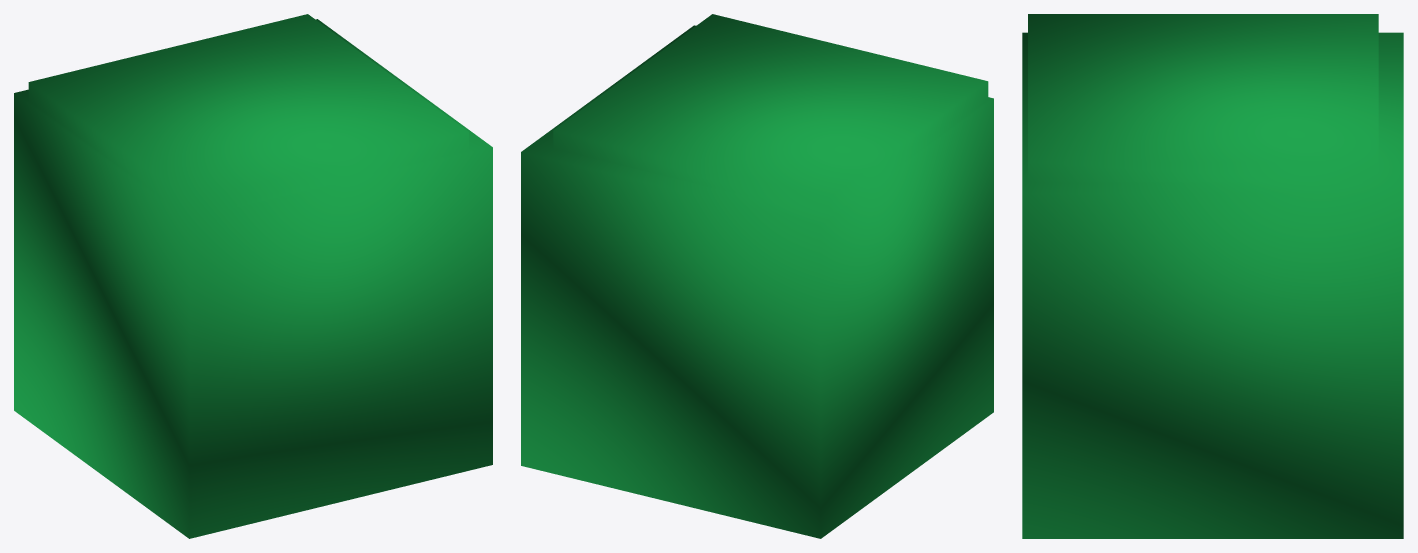
File: ps2_jrpg_ancient_ruin_obelisk.obj
The picture shows the model from 3 angles, left to right: view 1: azimuth 30°, elevation 25°; view 2: azimuth 150°, elevation 25°; view 3: azimuth 270°, elevation 25°; orthographic projection. The views are drawn at different scales.
Bounding box in the file's own units: 1 × 1.06 × 1.
